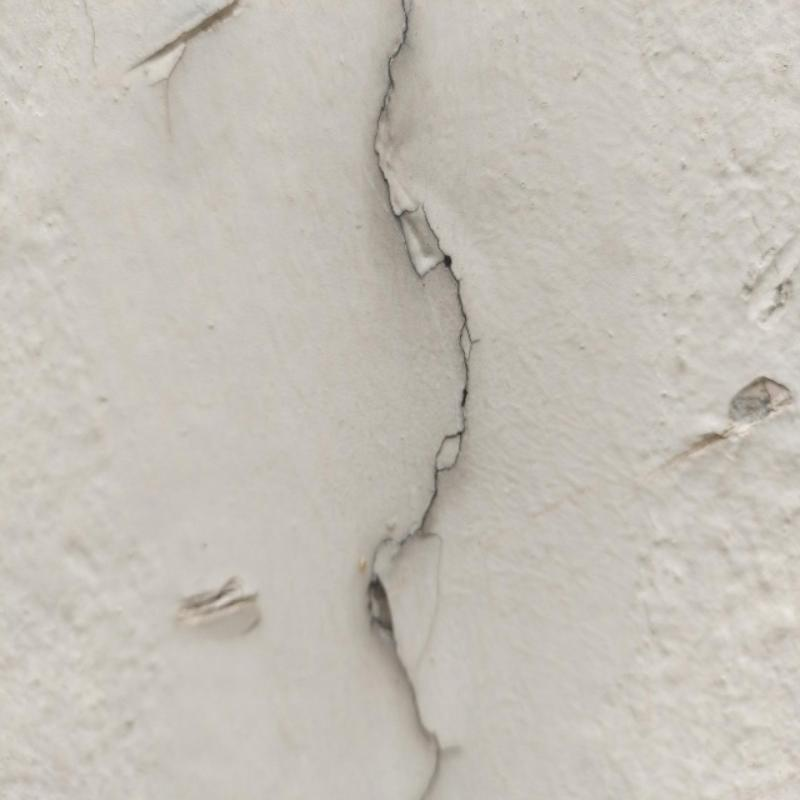crack: (367, 7, 471, 793)
